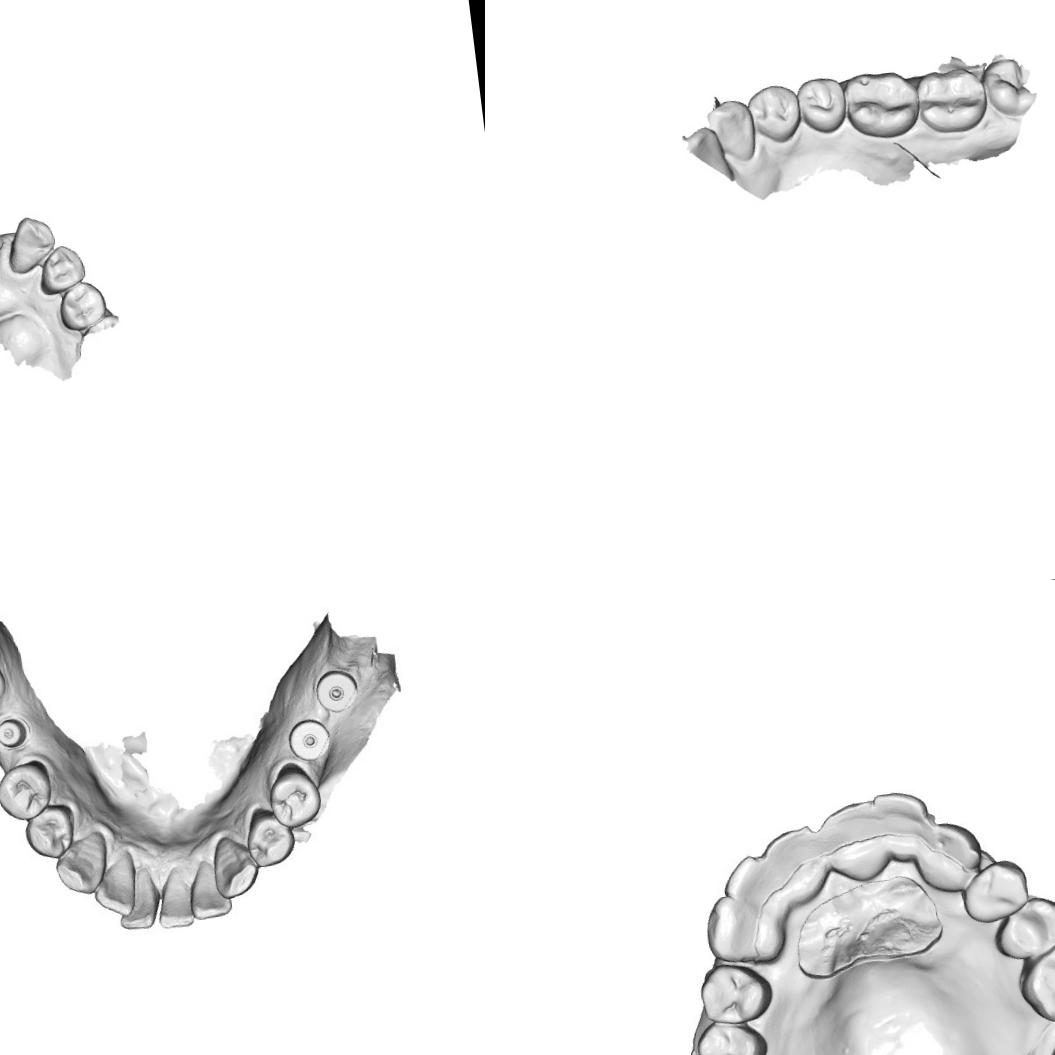canine: (703, 888, 784, 976), (921, 819, 982, 888), (48, 834, 107, 898), (704, 96, 760, 163), (4, 212, 59, 276), (211, 836, 262, 898)
implant: (314, 664, 360, 714), (290, 716, 334, 762), (0, 715, 30, 748)
incisor: (765, 822, 833, 898), (874, 788, 936, 864), (822, 800, 888, 870), (723, 854, 790, 919), (185, 865, 234, 926), (153, 866, 198, 930), (92, 854, 140, 914), (115, 872, 160, 934)
molar: (841, 66, 924, 144), (913, 65, 992, 137), (1018, 931, 1055, 1022)
premolar: (693, 954, 778, 1030), (960, 855, 1030, 926), (994, 891, 1055, 961), (745, 82, 806, 146), (265, 762, 322, 828), (793, 74, 850, 138), (246, 808, 300, 871), (0, 759, 55, 820), (23, 807, 80, 865), (691, 1014, 769, 1055), (34, 242, 88, 296), (56, 280, 108, 333)
